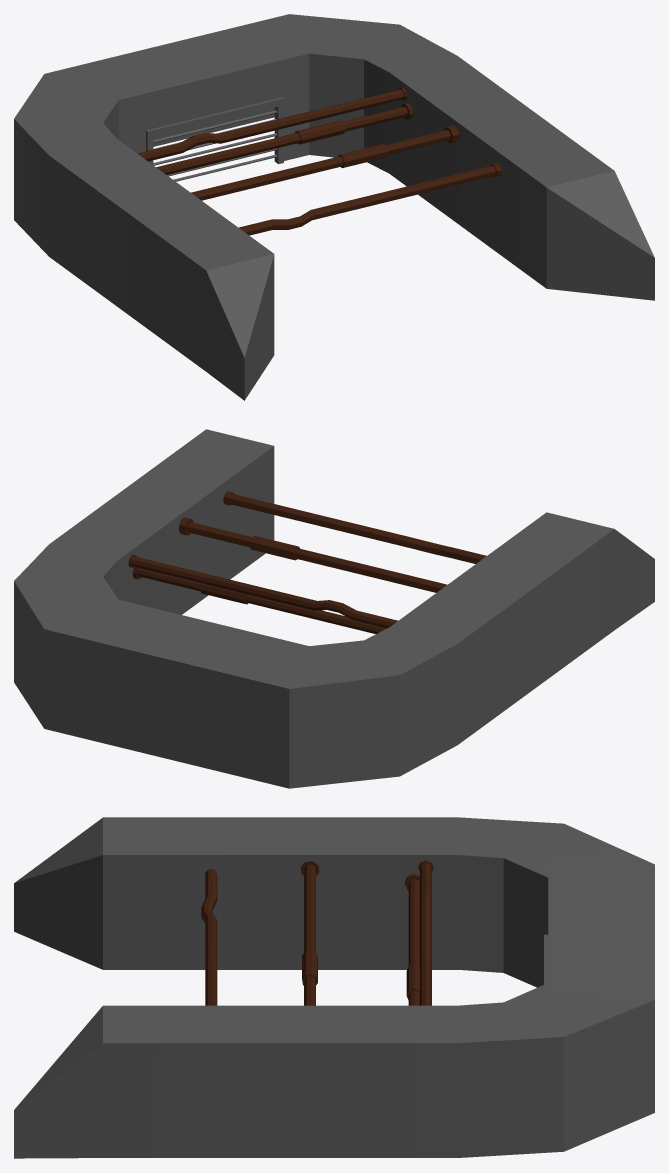
File: Struc_Enterance.fbx
3 views of the same model, one above another, from view 1: azimuth 30°, elevation 25°; view 2: azimuth 150°, elevation 25°; view 3: azimuth 270°, elevation 25° (orthographic). The views are drawn at different scales.
Visible parts, largest first — view 1: Wall_Enterance; view 2: Wall_Enterance; view 3: Wall_Enterance.
Part boxes in pixels (<box>): Wall_Enterance: <box>14,14,654,400</box>; Wall_Enterance: <box>14,429,654,788</box>; Wall_Enterance: <box>14,817,654,1158</box>.
Bounding box in the file's own units: 3015 × 712 × 3600.
